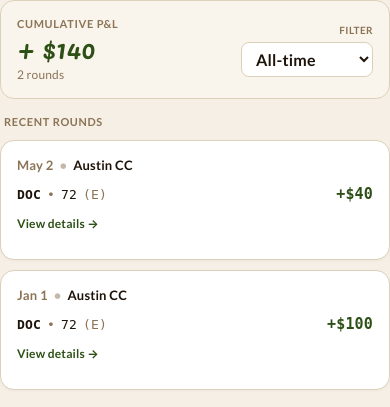
Test: <ProfileRoundsList /> › filter dropdown updates the cumulative total
Check: the text with test id "rounds-cumulative-pnl" reads "+ $140", box [17, 25, 96, 71]
Select "Last 30 days" in the dropdown with test id "rounds-date-filter" at point(307, 59), box [241, 42, 373, 77]
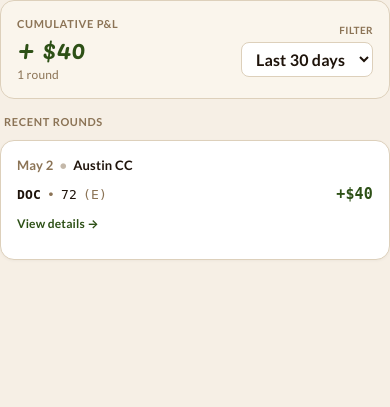
Check: the text with test id "rounds-cumulative-pnl" reads "+ $40", box [17, 25, 86, 71]
